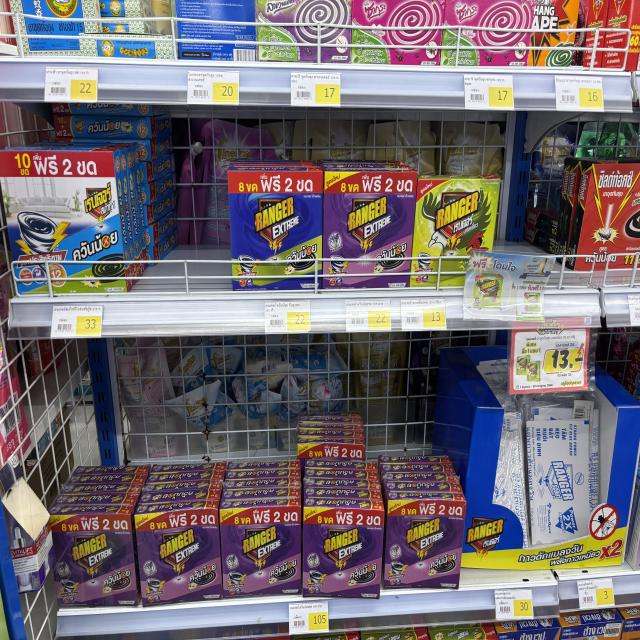empty_shelf: (30, 319, 465, 509), (131, 104, 234, 292)
